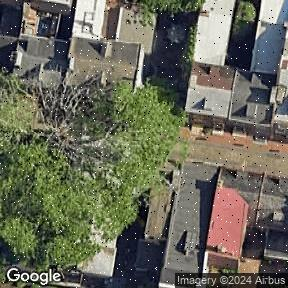vegetation: (0, 0, 204, 282)
